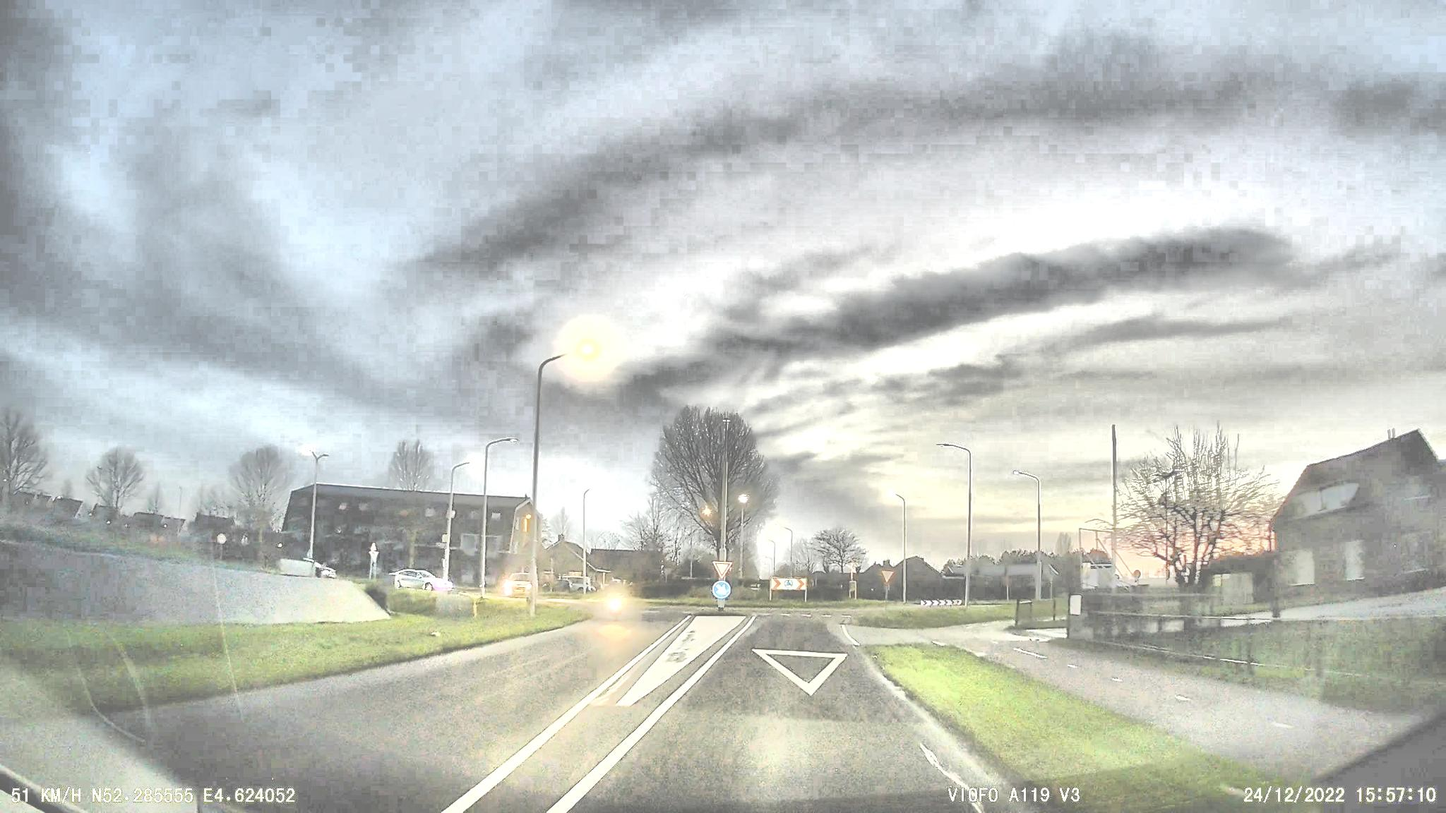Roads: (0, 612, 975, 813)
